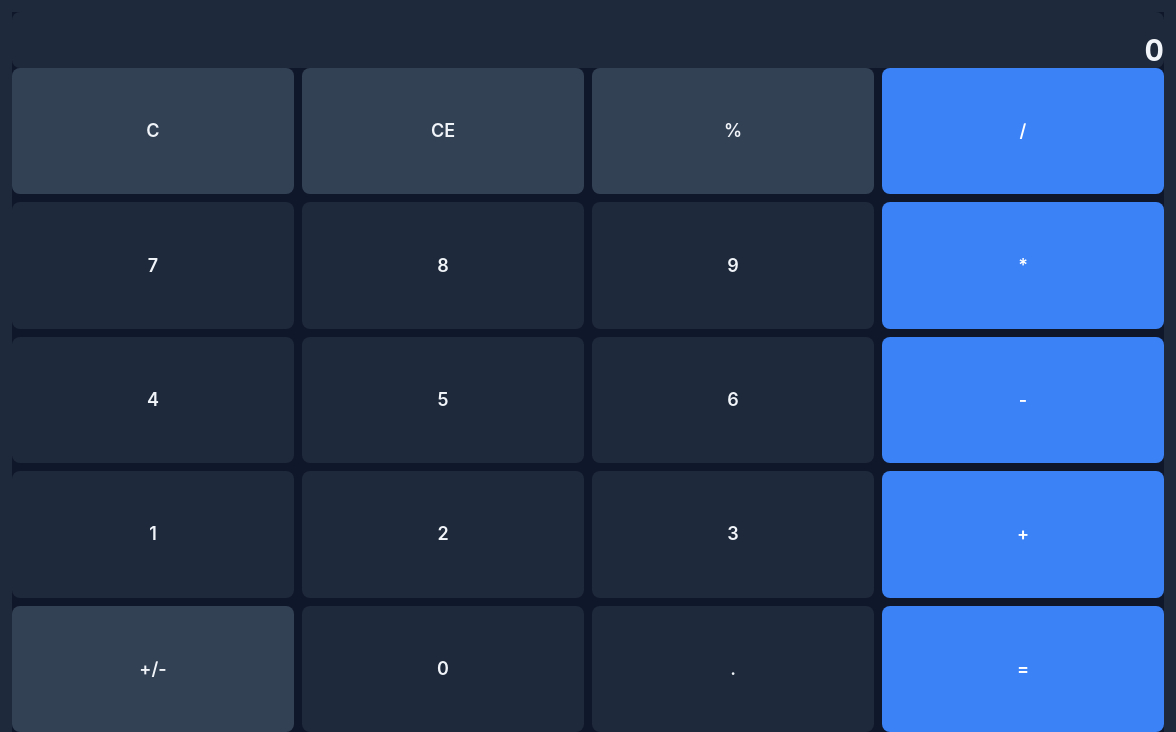
Calculator › responds to digit clicks by updating display
The image size is (1176, 732).
What coordinates should you click on to do the following:
click the button "7"
I would click on:
 (153, 266)
Its box is x1=12 y1=202 x2=294 y2=329.
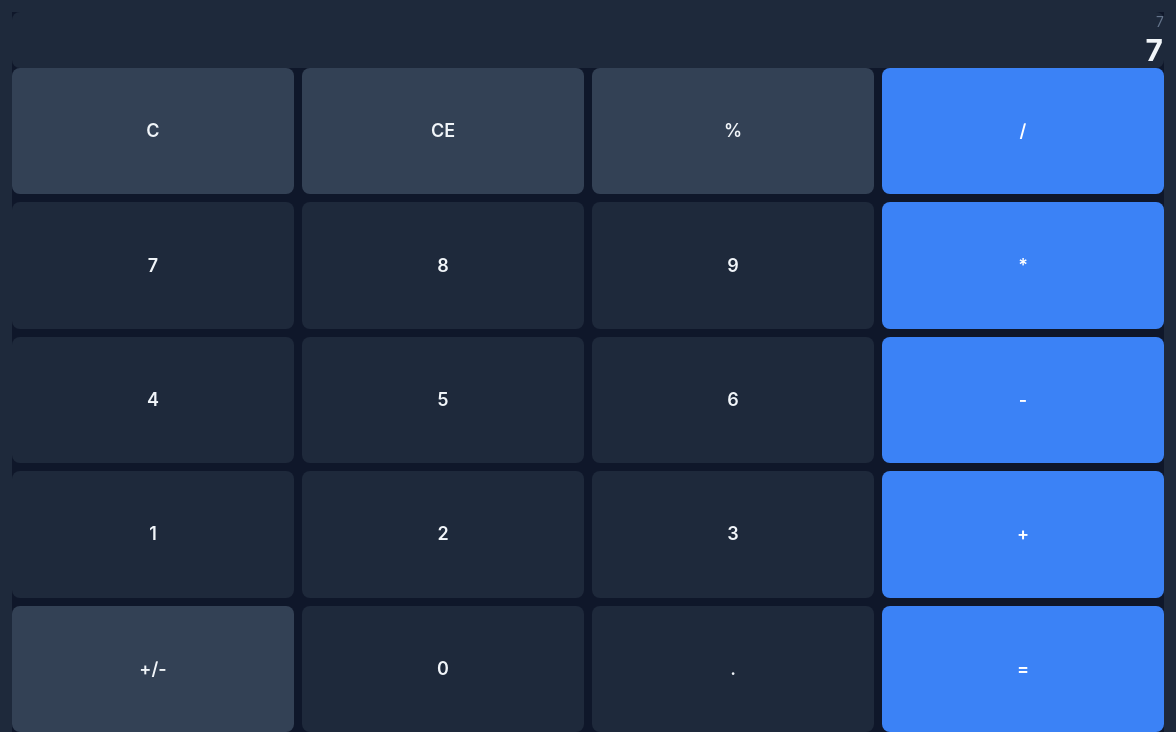
Expected: the 2nd text "7" is shown, x1=1145 y1=32 x2=1164 y2=68
What coordinates should you click on to do the following:
click the button "3"
I would click on:
 (733, 534)
Its box is x1=592 y1=471 x2=874 y2=598.
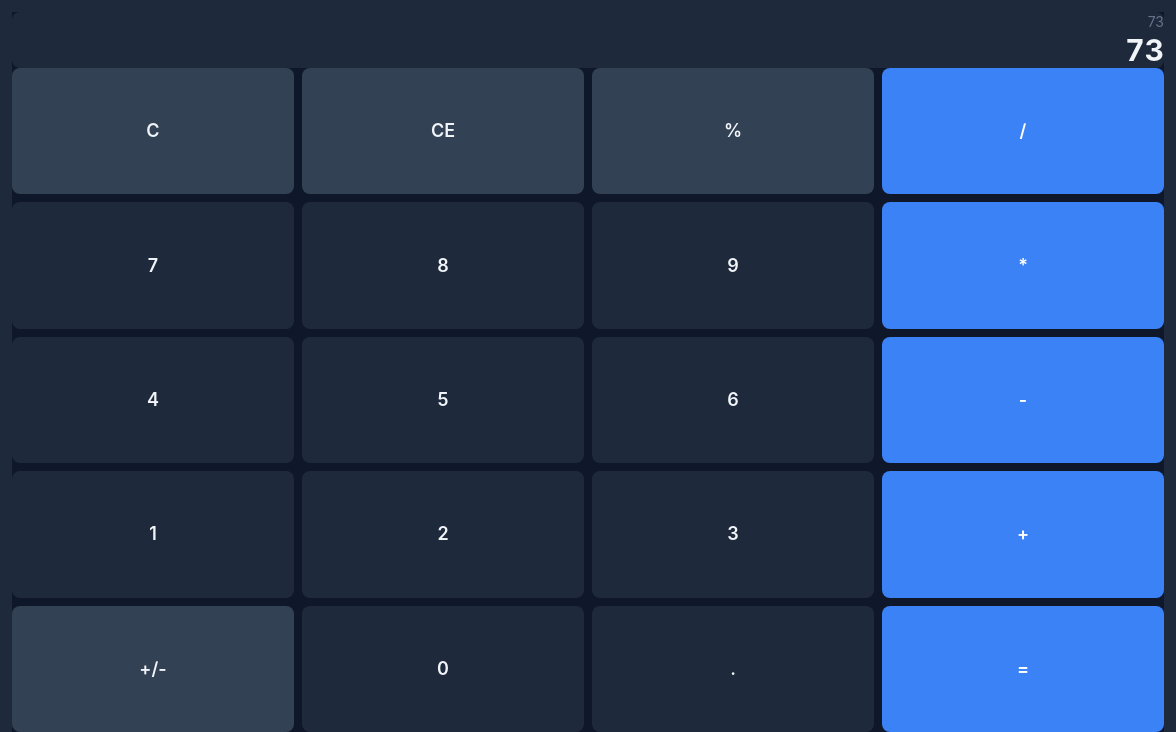
Expected: the 2nd text "73" is shown, x1=1125 y1=32 x2=1164 y2=68
